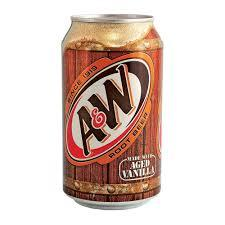Aluminum can: (41, 5, 184, 214)
